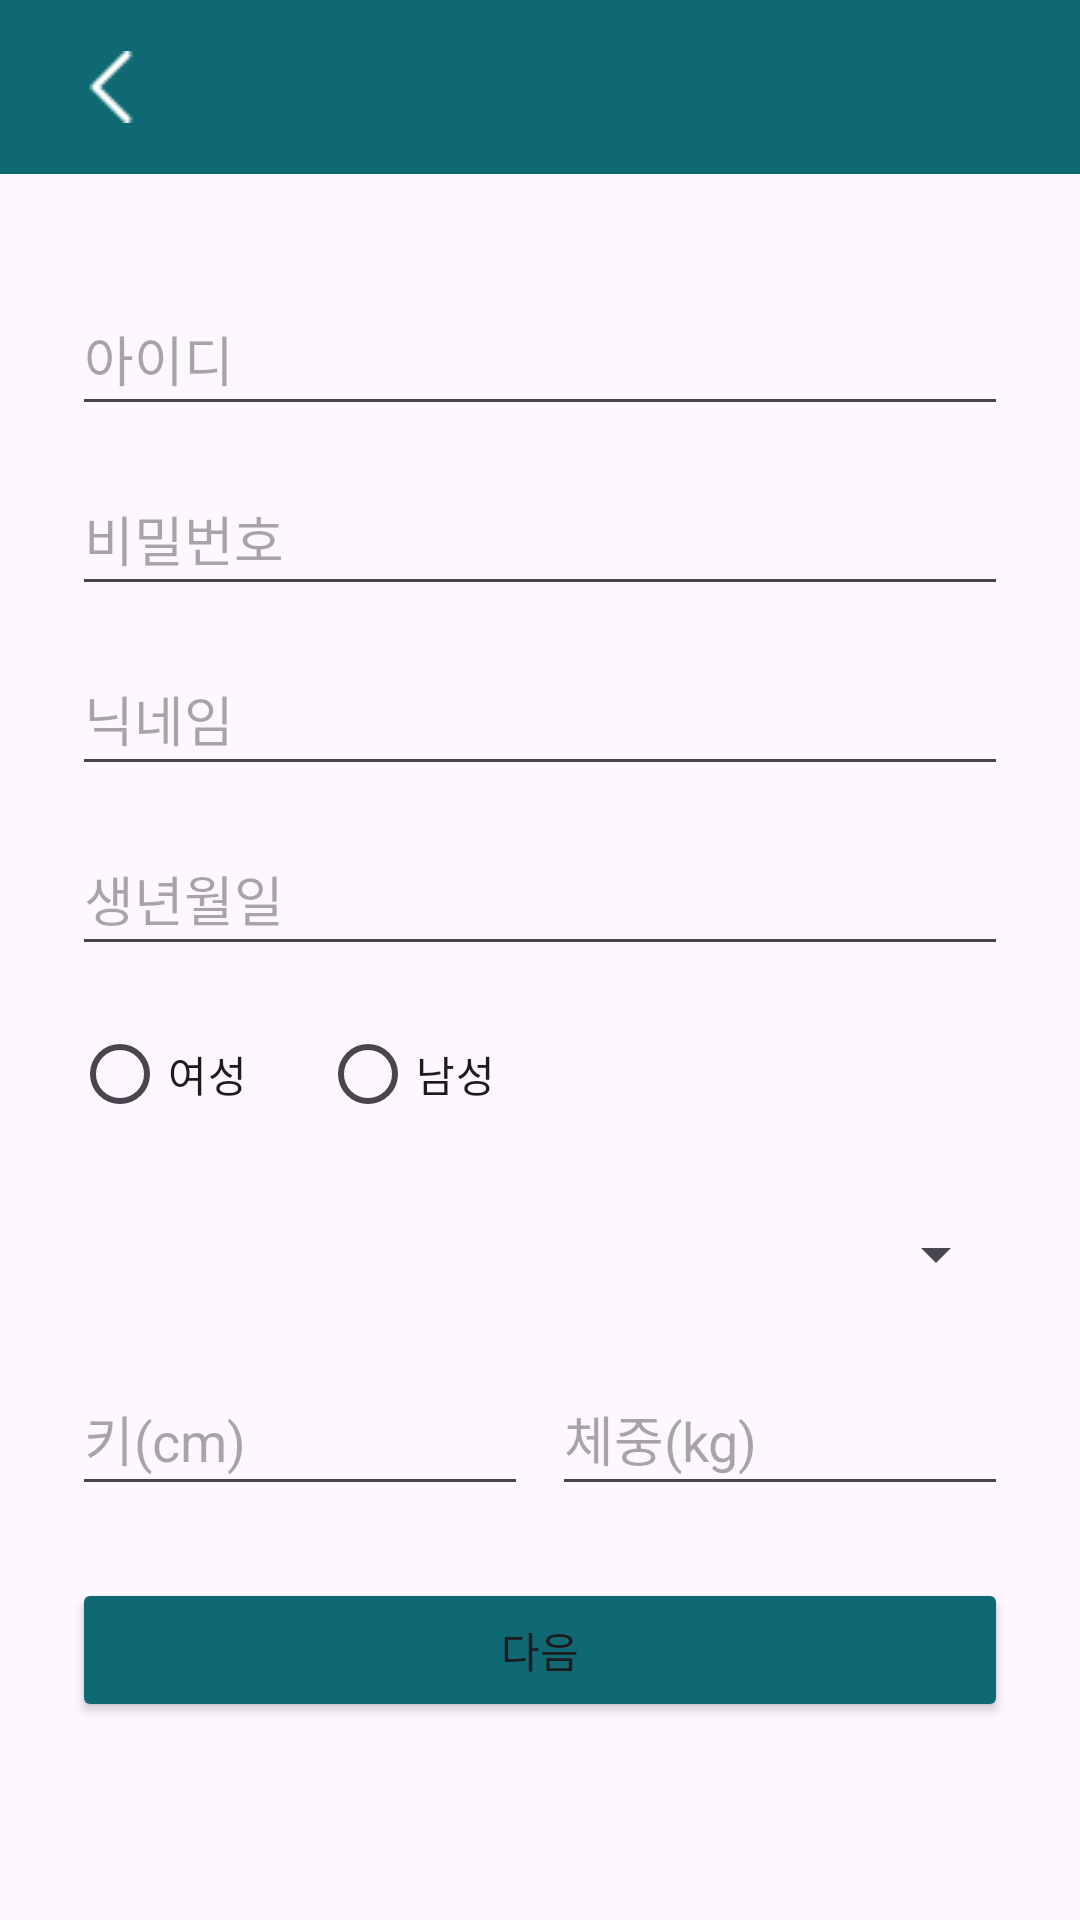

Icons on this 1080w x 1920h Android screen, each with its box as [x1=x1, y1=y1, x2=x2, y2=y2]:
뒤로가기: [x1=89, y1=51, x2=133, y2=123]
